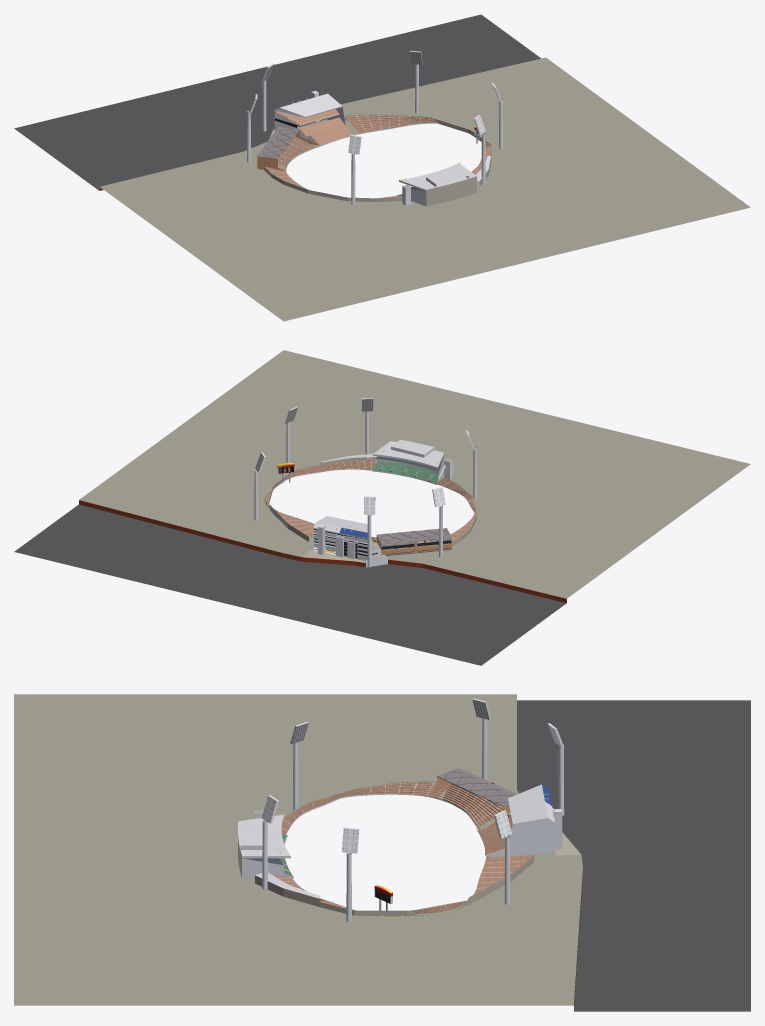
Rendered from waca.glb.
The picture shows the model from 3 angles, top to bottom: view 1: azimuth 30°, elevation 25°; view 2: azimuth 150°, elevation 25°; view 3: azimuth 270°, elevation 25°; orthographic projection. The views are drawn at different scales.
Parts seen in each view (by area): view 1: land, road, white, red, concrete, roof, terrace, emuroof; view 2: land, road, white, brick, red, roof, concrete, emuroof, greenseat; view 3: land, road, white, red, roof, concrete, emuroof, terrace.
Boxes of the visible parts, bbox=[...] form: land: bbox=[100, 57, 750, 321]; road: bbox=[14, 14, 540, 190]; white: bbox=[247, 64, 502, 206]; red: bbox=[265, 115, 491, 198]; concrete: bbox=[264, 114, 491, 206]; roof: bbox=[280, 93, 490, 189]; terrace: bbox=[276, 109, 353, 145]; emuroof: bbox=[257, 127, 299, 158]; land: bbox=[79, 350, 750, 598]; road: bbox=[14, 504, 566, 665]; white: bbox=[254, 411, 477, 567]; brick: bbox=[79, 500, 566, 603]; red: bbox=[265, 459, 476, 542]; roof: bbox=[313, 439, 443, 532]; concrete: bbox=[267, 457, 476, 561]; emuroof: bbox=[377, 528, 451, 543]; greenseat: bbox=[372, 461, 441, 483]; land: bbox=[14, 694, 582, 1005]; road: bbox=[517, 700, 750, 1011]; white: bbox=[240, 718, 564, 921]; red: bbox=[273, 782, 533, 913]; roof: bbox=[238, 784, 554, 898]; concrete: bbox=[238, 781, 534, 915]; emuroof: bbox=[437, 768, 516, 806]; terrace: bbox=[478, 816, 512, 854].
Size of the model in its own units: 520 by 75.37 by 520.
Materials: 44 (44 with a texture image).
